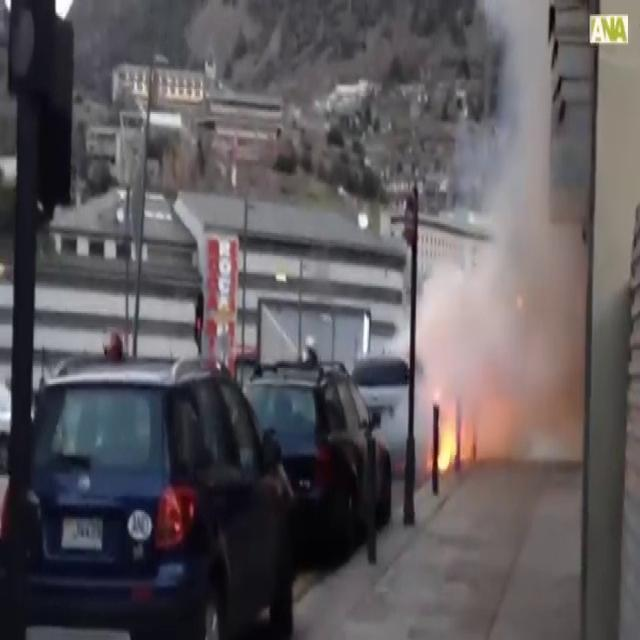Fire: (432, 394, 474, 484)
Smoke: (422, 4, 584, 454)
